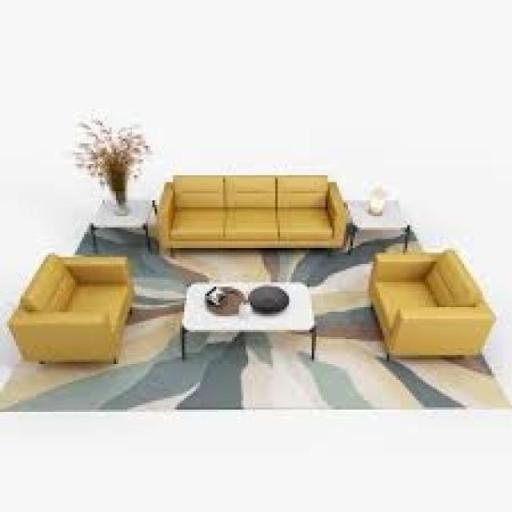sofa: (154, 123, 398, 278), (333, 216, 512, 364), (0, 239, 140, 411)
